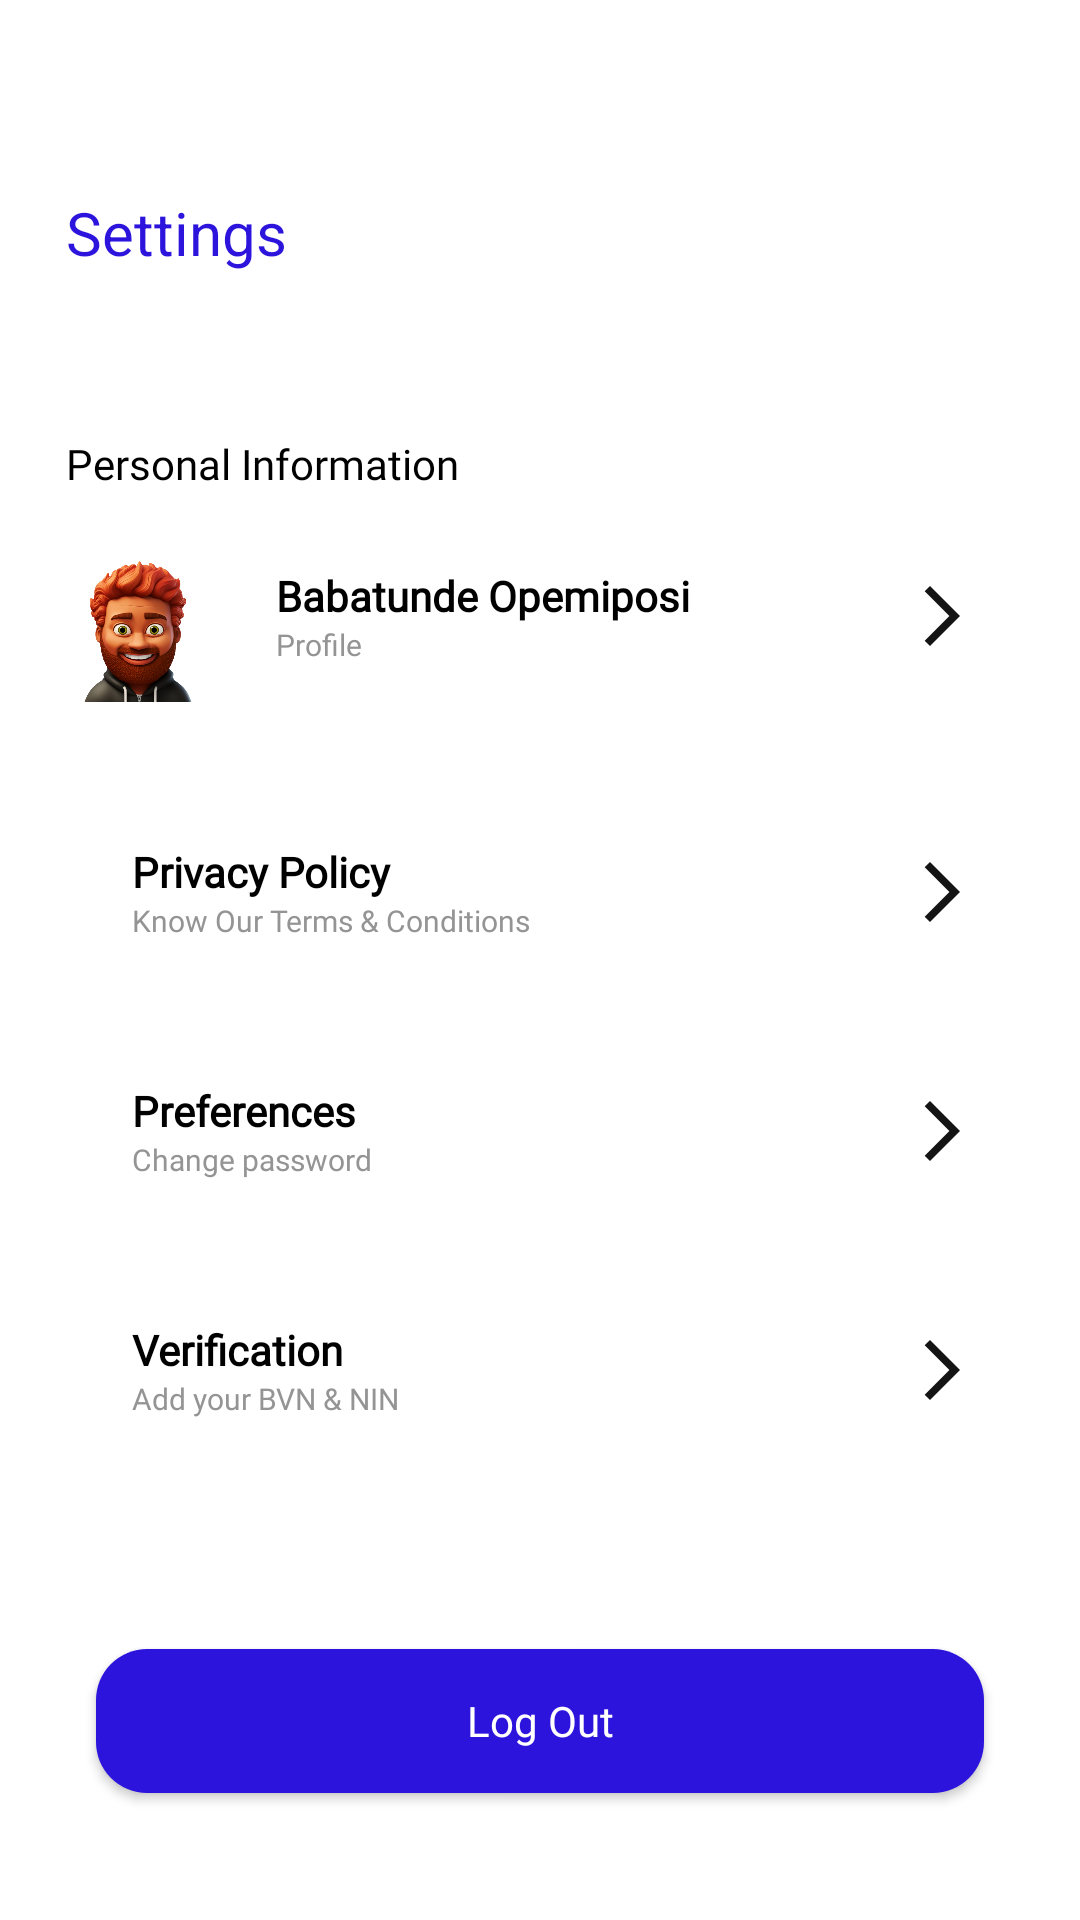

Point at icon controls on the screen. Image size 1080x1920, points as (x=x, y=y).
arrow forward: (x=942, y=616), (x=942, y=892), (x=942, y=1131), (x=942, y=1370)
userimage: (x=137, y=631)
